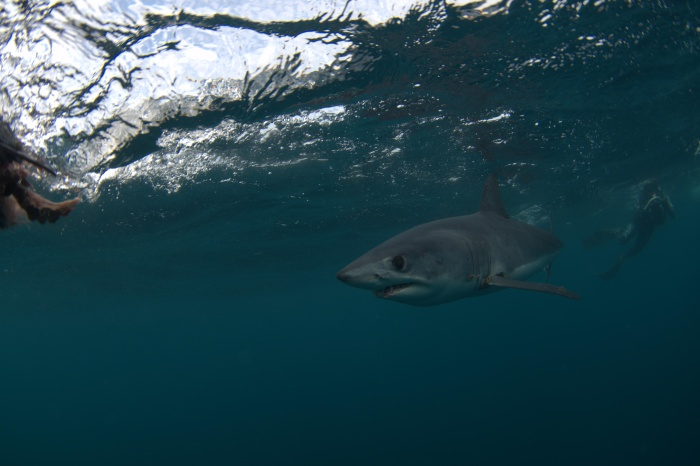Mako: (330, 165, 591, 318)
